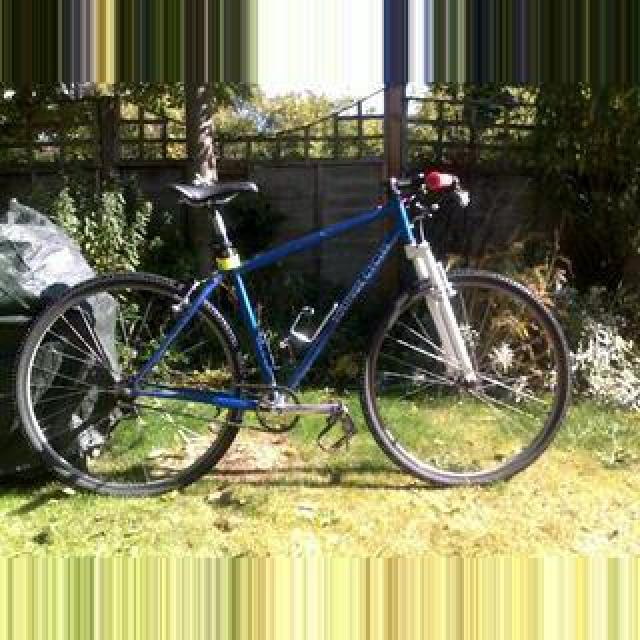Person: (14, 164, 572, 502)
